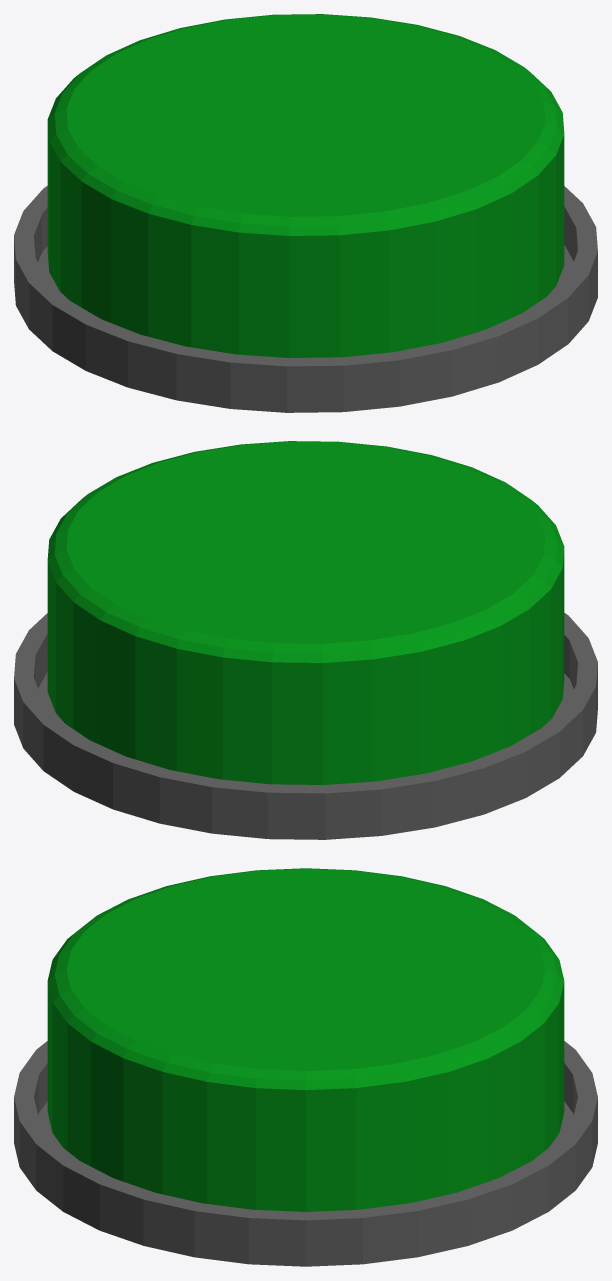
The model's file is Button OK.fbx.
The picture shows the model from 3 angles, top to bottom: view 1: azimuth 30°, elevation 25°; view 2: azimuth 150°, elevation 25°; view 3: azimuth 270°, elevation 25°; orthographic projection.
Parts seen in each view (by area): view 1: Button, Button Base; view 2: Button, Button Base; view 3: Button, Button Base.
Part boxes in pixels (bbox=[...]): Button: bbox=[47, 14, 564, 357]; Button Base: bbox=[14, 186, 597, 412]; Button: bbox=[47, 441, 564, 784]; Button Base: bbox=[14, 613, 597, 839]; Button: bbox=[47, 868, 564, 1211]; Button Base: bbox=[14, 1041, 597, 1266].
Bounding box in the file's own units: 200 × 65.54 × 200.
